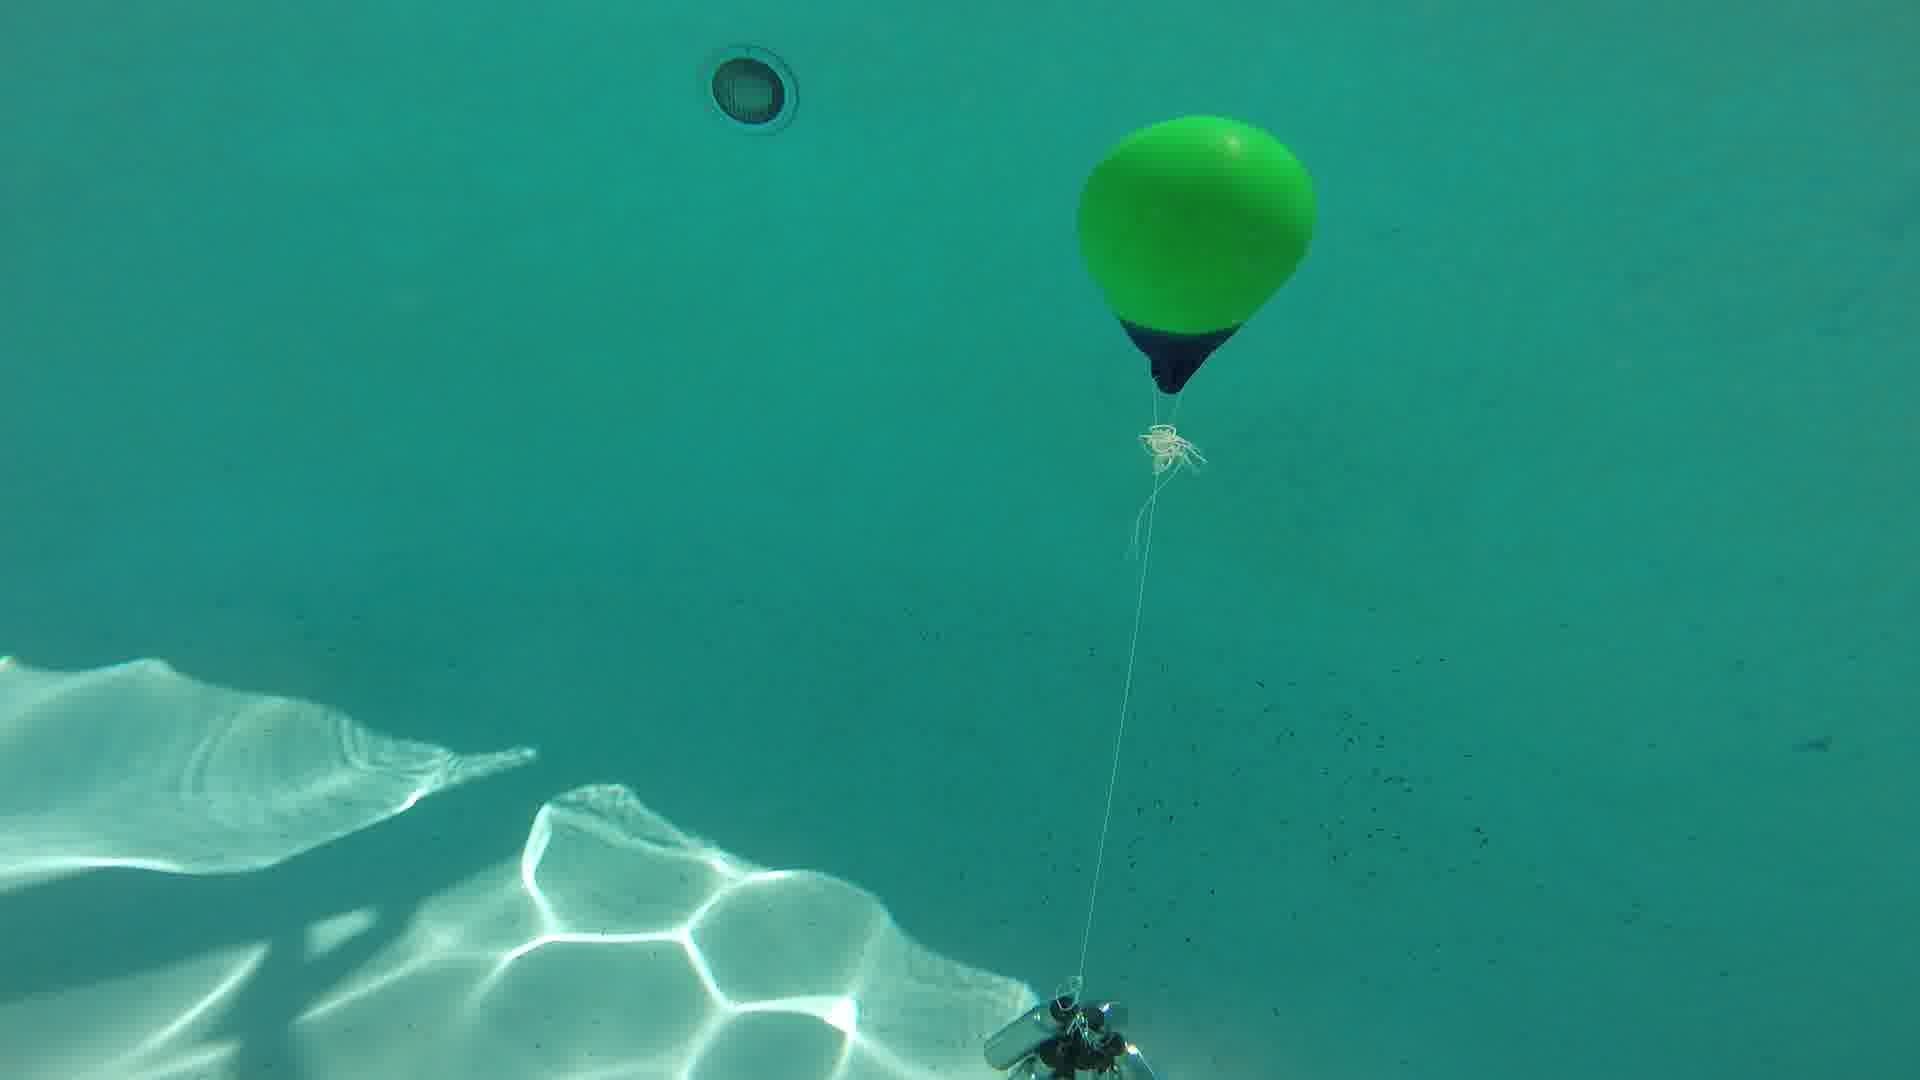yellow_buoy: (1079, 112, 1315, 398)
